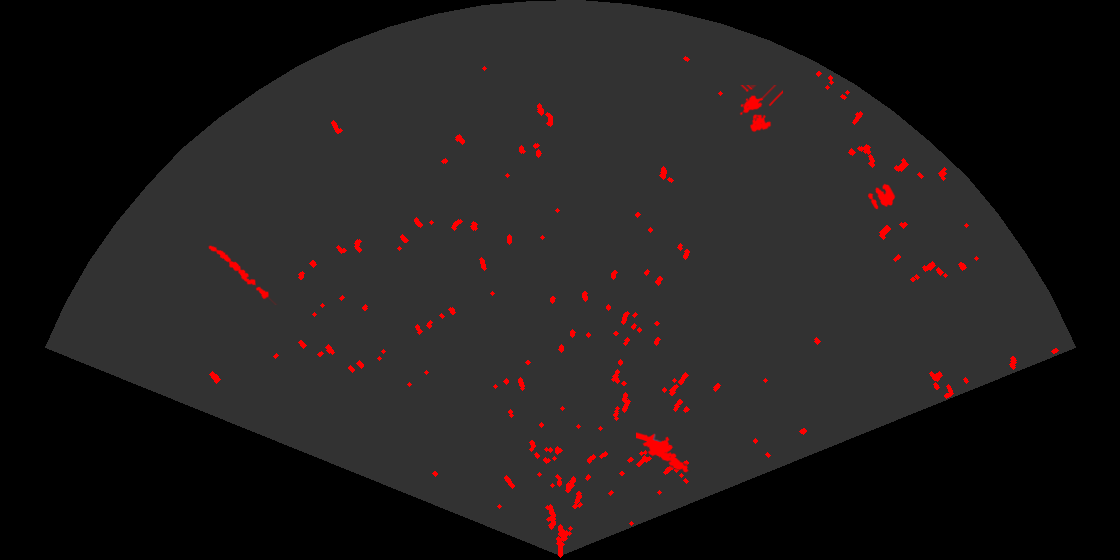ball: (866, 182, 897, 211)
cage: (738, 85, 783, 134)
chain: (207, 244, 279, 305)
frogman: (636, 431, 691, 474)
